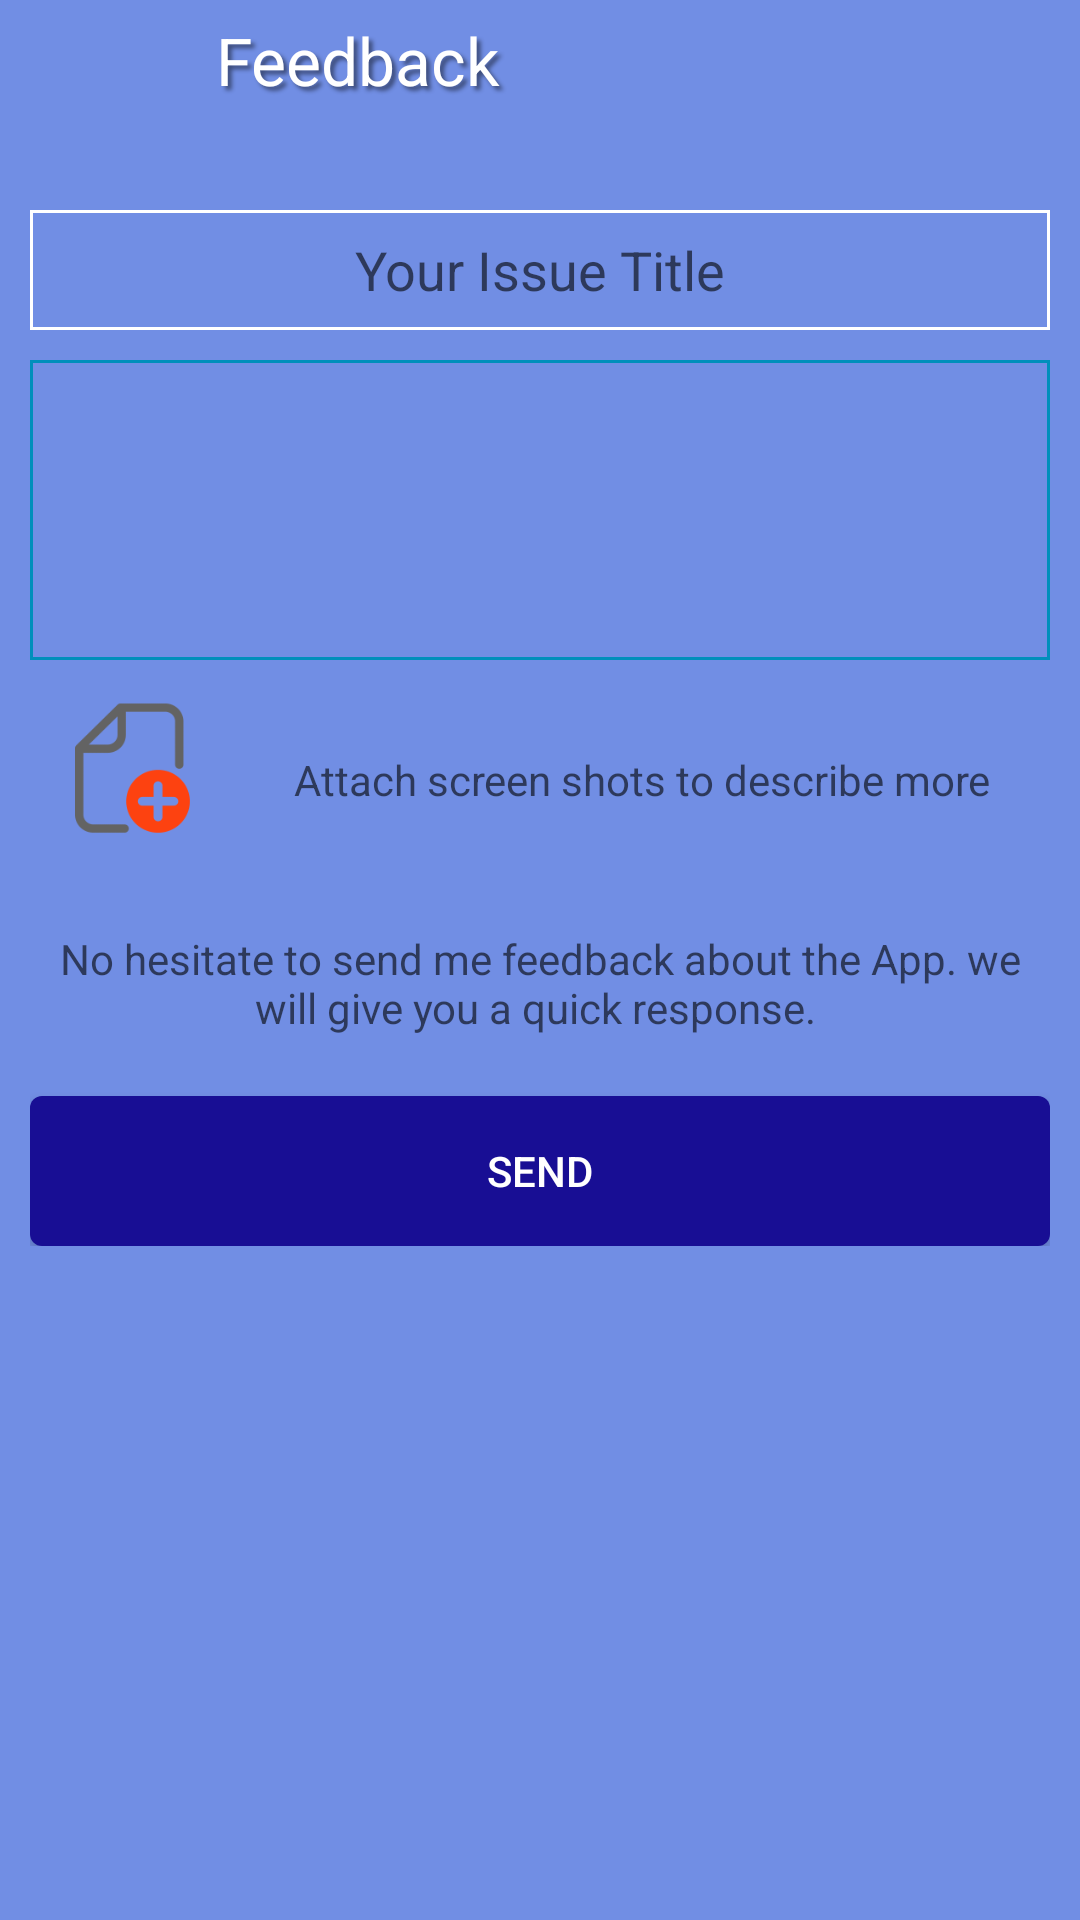

Icons on this 1080*1920 Android screen, each with its box as box=[x1, y1, x2, y2]:
addpicture: box=[75, 703, 190, 833]
